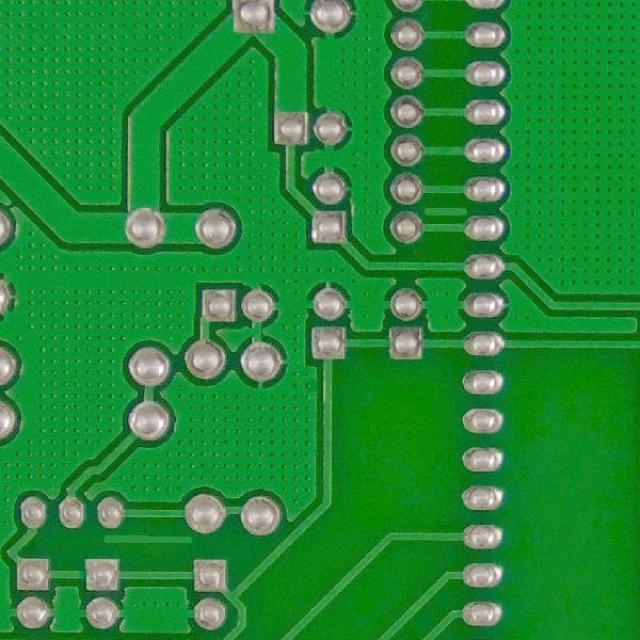Spurious_Cooper: (95, 530, 201, 548), (422, 202, 471, 220)
